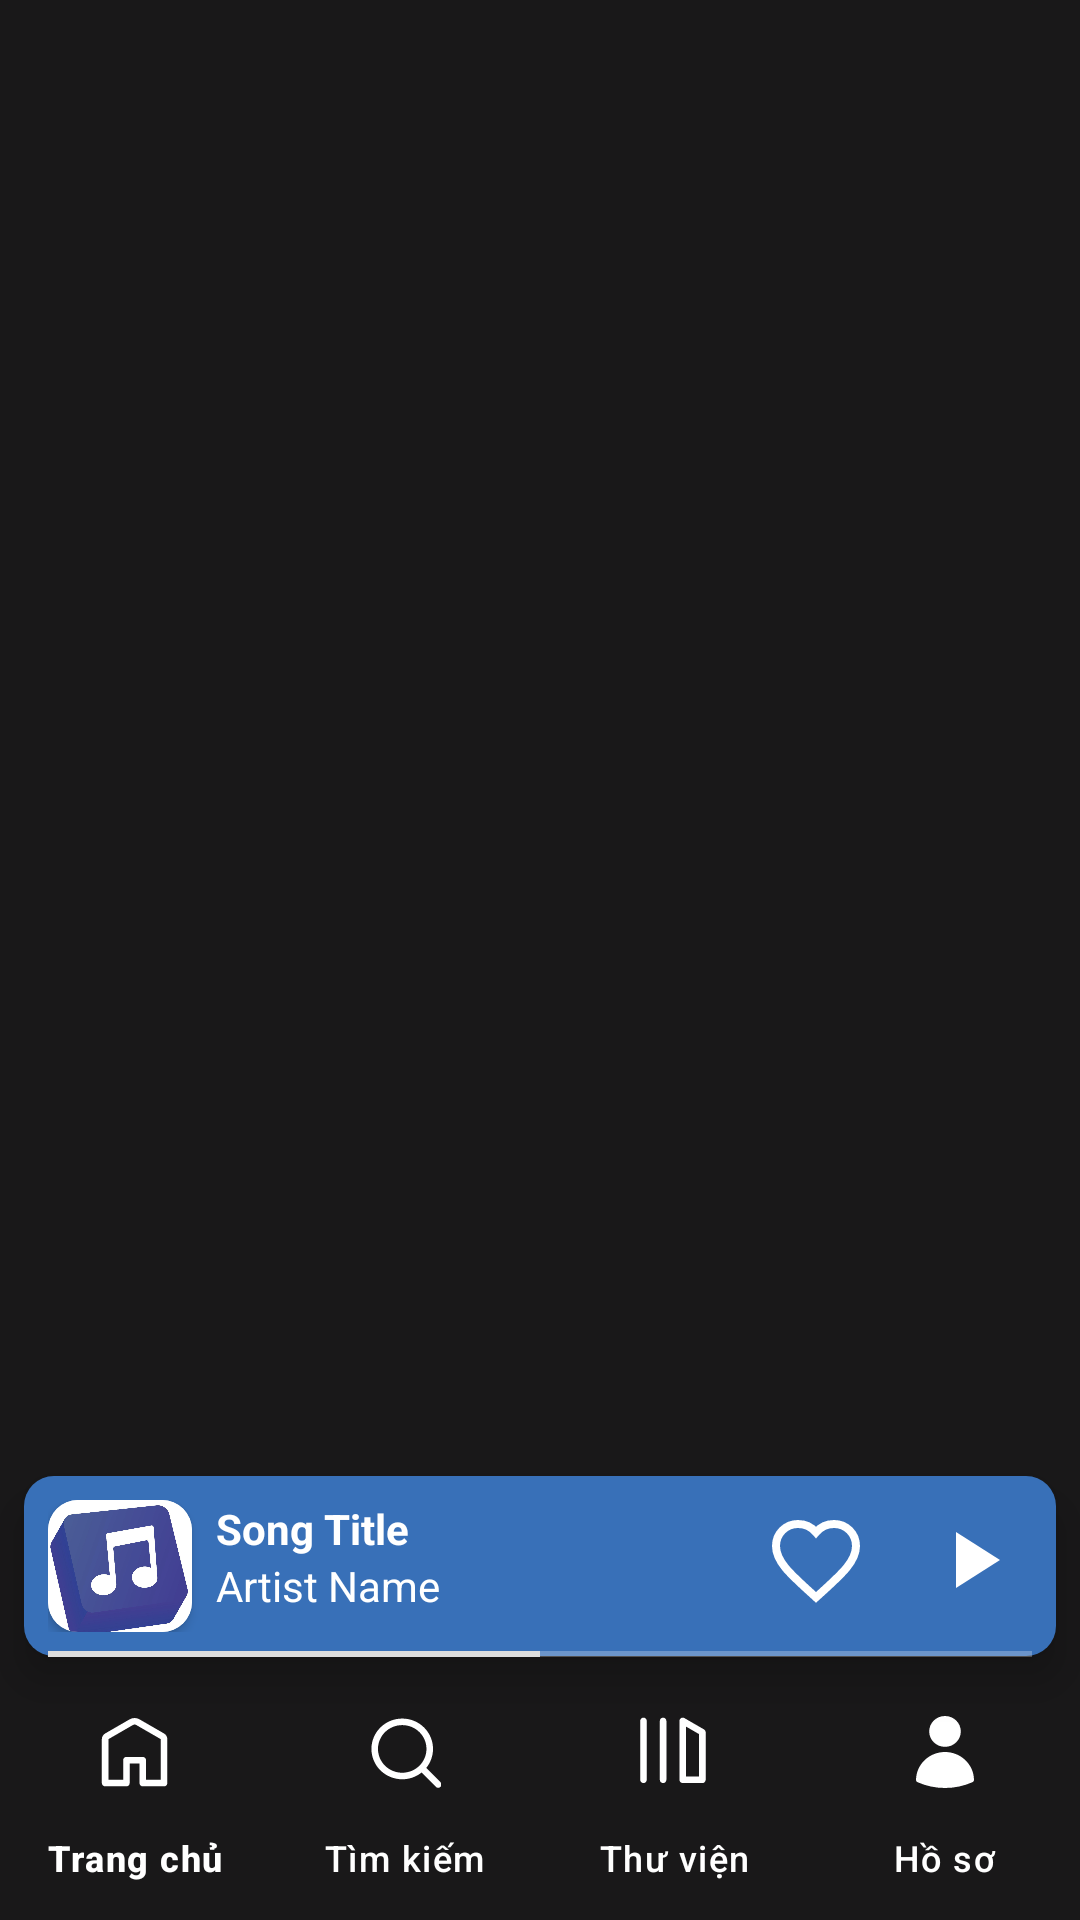

Locate icon controls on the screen. Image size 1080 × 1920, boxes as (x1, y1, x2, y2).
Hình ảnh bài hát: (48, 1500, 192, 1632)
Nút phát: (956, 1532, 1000, 1588)
Thích: (772, 1520, 860, 1603)
